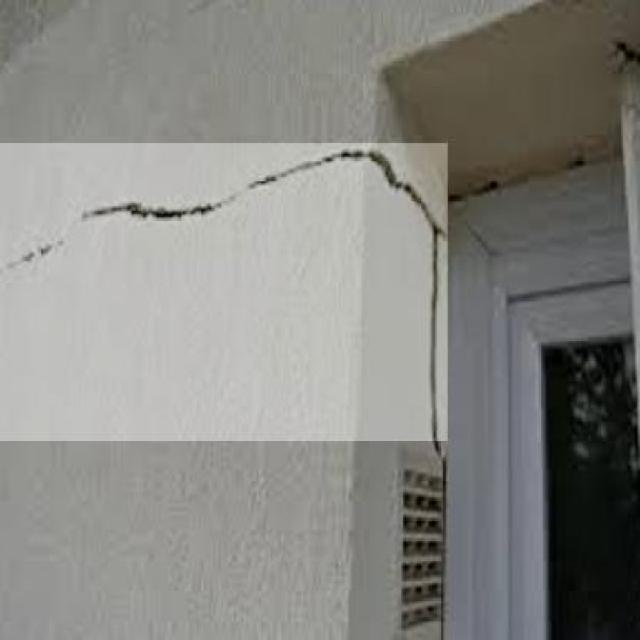Crack: (6, 143, 454, 438)
